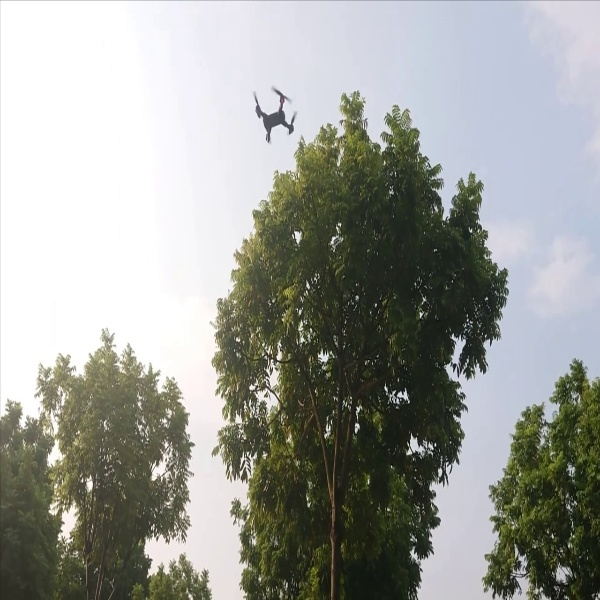drone: (247, 77, 301, 145)
